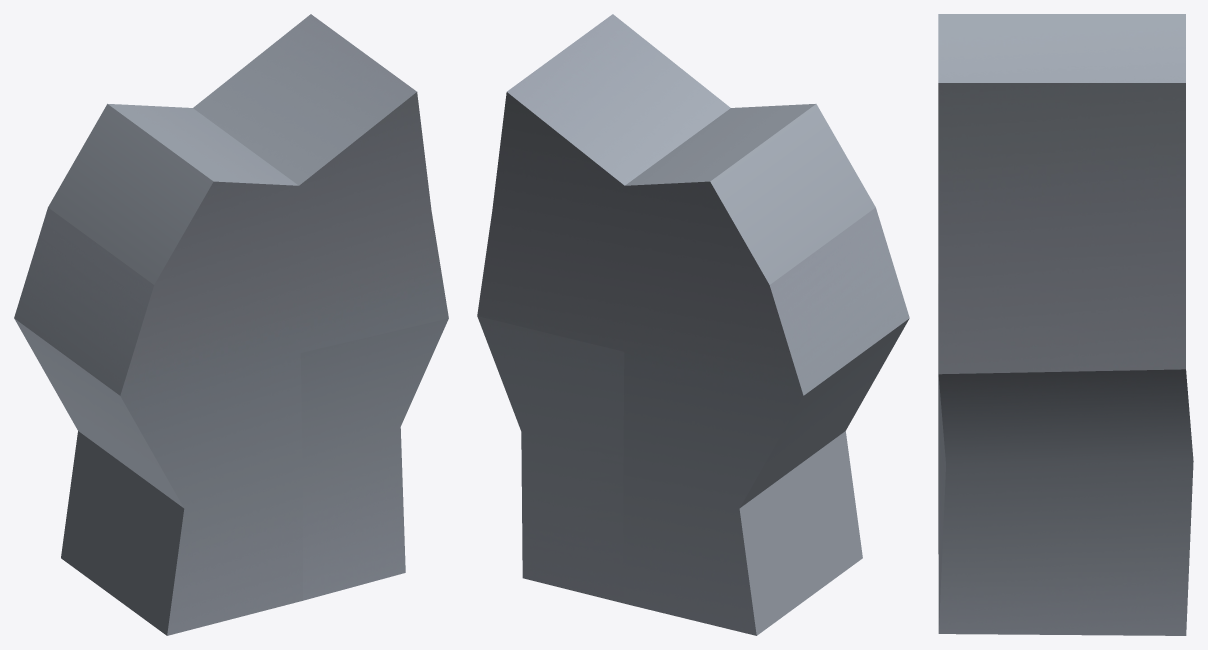
The model's file is Wall_Segement7.fbx.
The picture shows the model from 3 angles, left to right: view 1: azimuth 30°, elevation 25°; view 2: azimuth 150°, elevation 25°; view 3: azimuth 270°, elevation 25°; orthographic projection. The views are drawn at different scales.
Visible parts, largest first — view 1: Wall_Segement7; view 2: Wall_Segement7; view 3: Wall_Segement7.
Boxes of the visible parts, <box> form: Wall_Segement7: <box>14,14,448,635</box>; Wall_Segement7: <box>477,14,909,635</box>; Wall_Segement7: <box>938,14,1193,635</box>.
Bounding box in the file's own units: 0.4538 × 0.6374 × 0.2617.
Materials: 1 (1 with a texture image).
